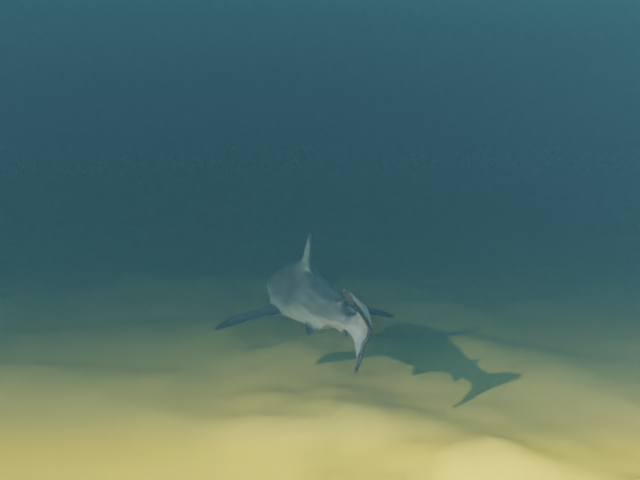Carribean Shark.001: (213, 232, 394, 374)
